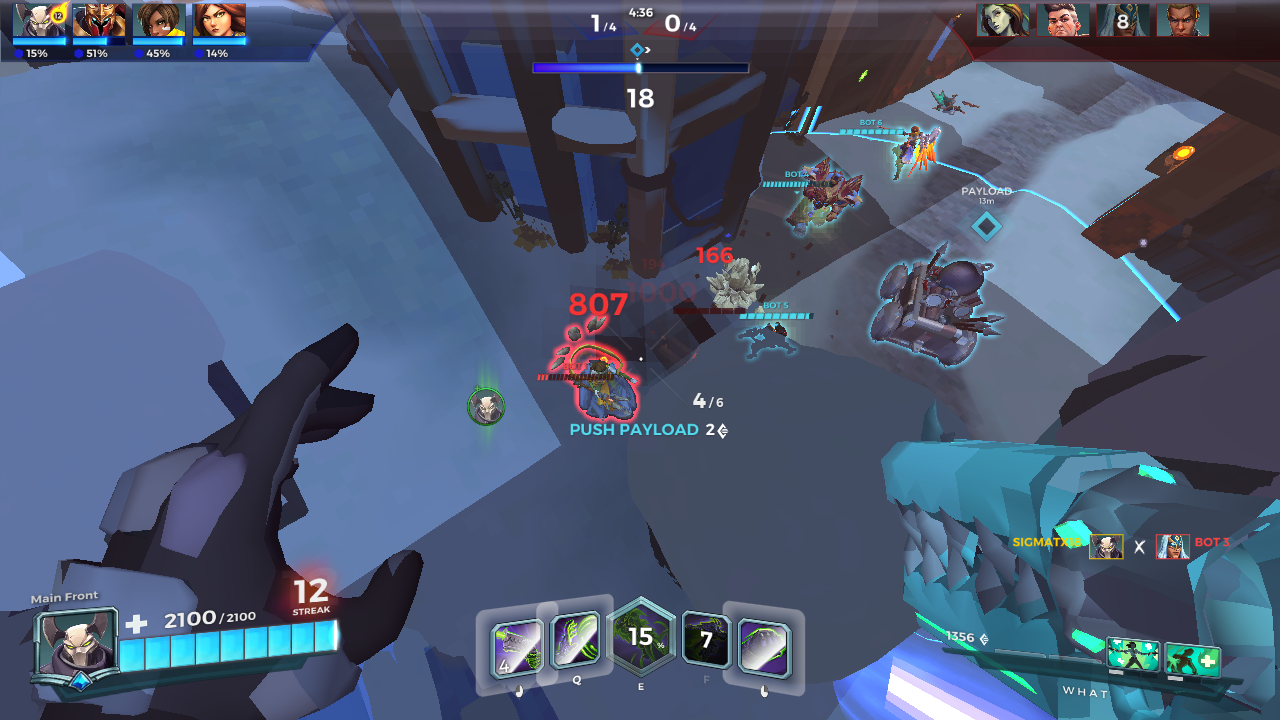model: (558, 351, 640, 421)
